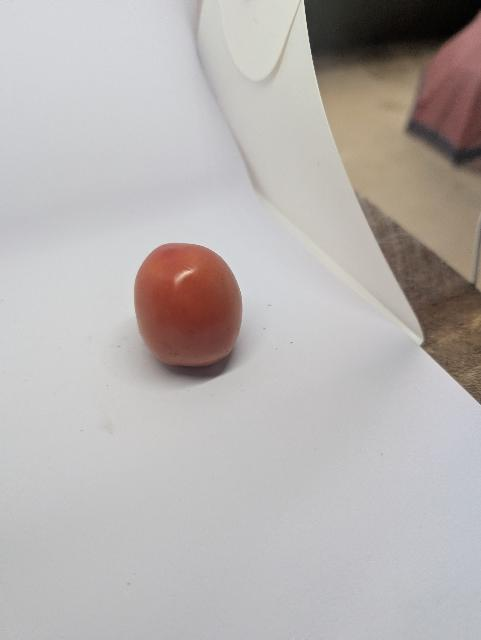red: (127, 230, 247, 381)
